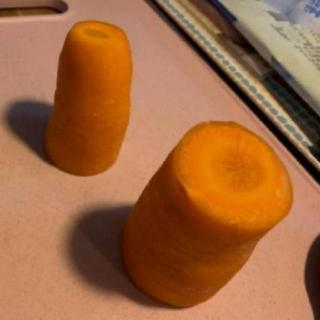carrot: (118, 117, 298, 311), (39, 17, 141, 179)
